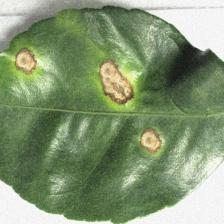canker: (9, 33, 164, 164)
